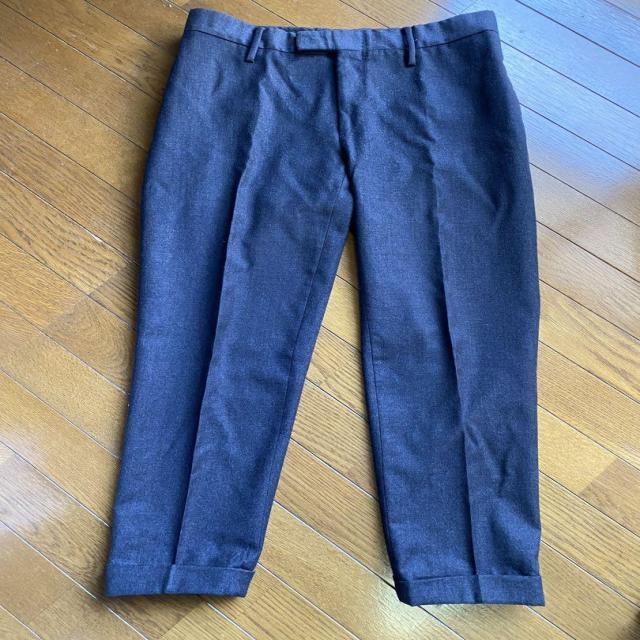long-pants: (106, 5, 550, 610)
